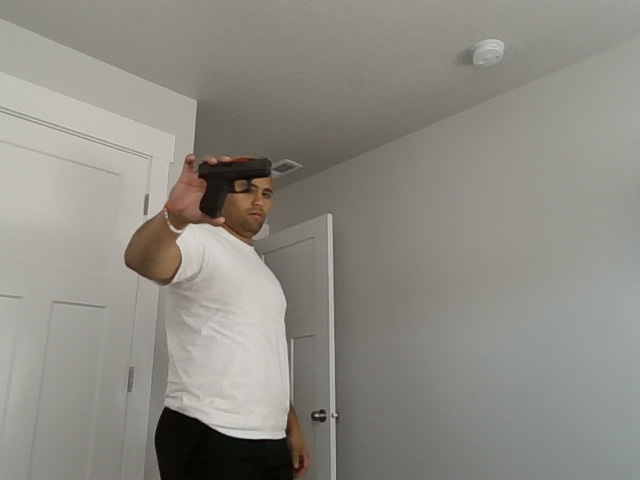handgun: (198, 157, 272, 218)
